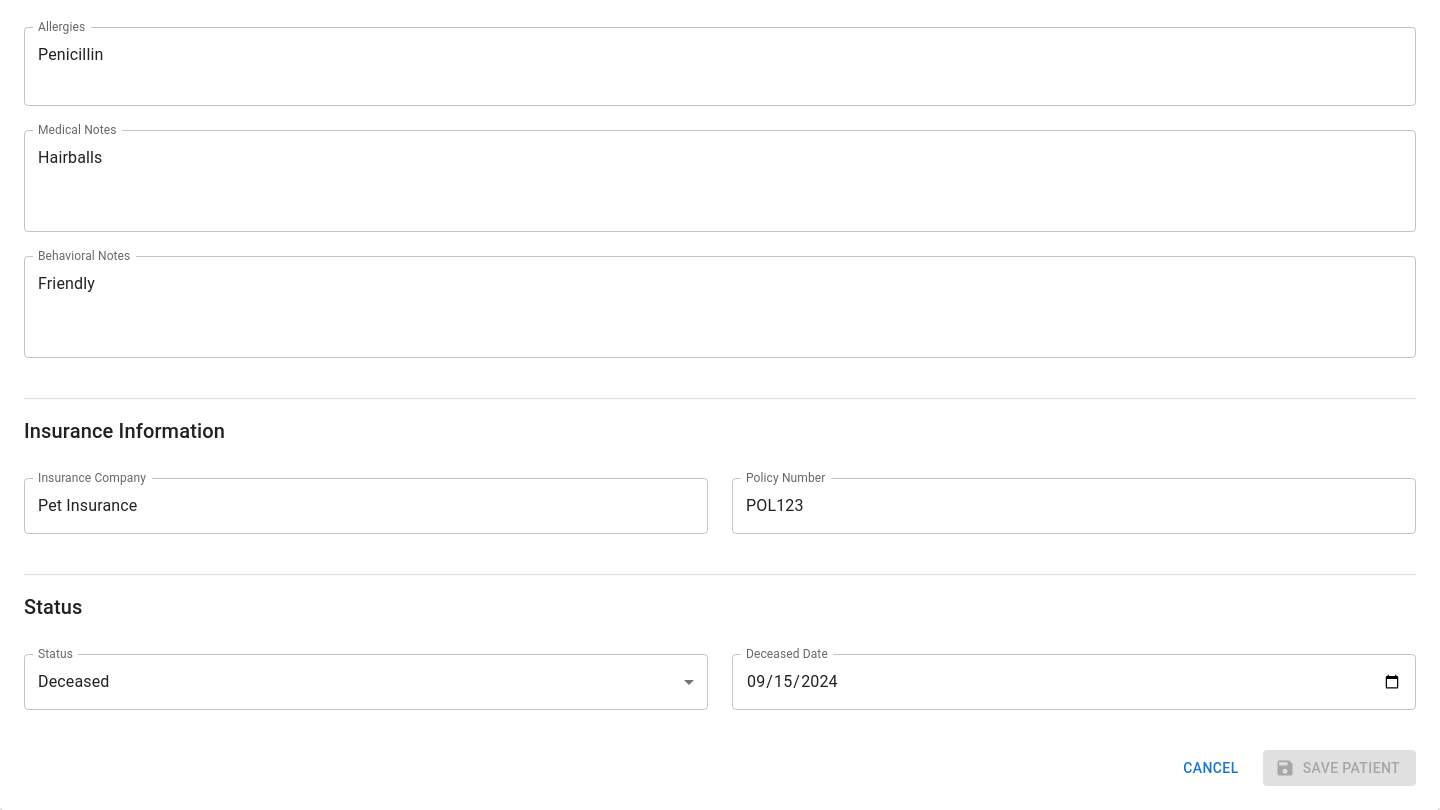
Test: PatientForm Component › Status Field › hides deceased_date field when status is not Deceased
(page scrolled)
expect the date field labelled "Deceased Date" is shown: met, box x1=732 y1=654 x2=1416 y2=710
Press the mouse on the dropdown named "Status": (74, 682) x1=38 y1=672 x2=110 y2=691
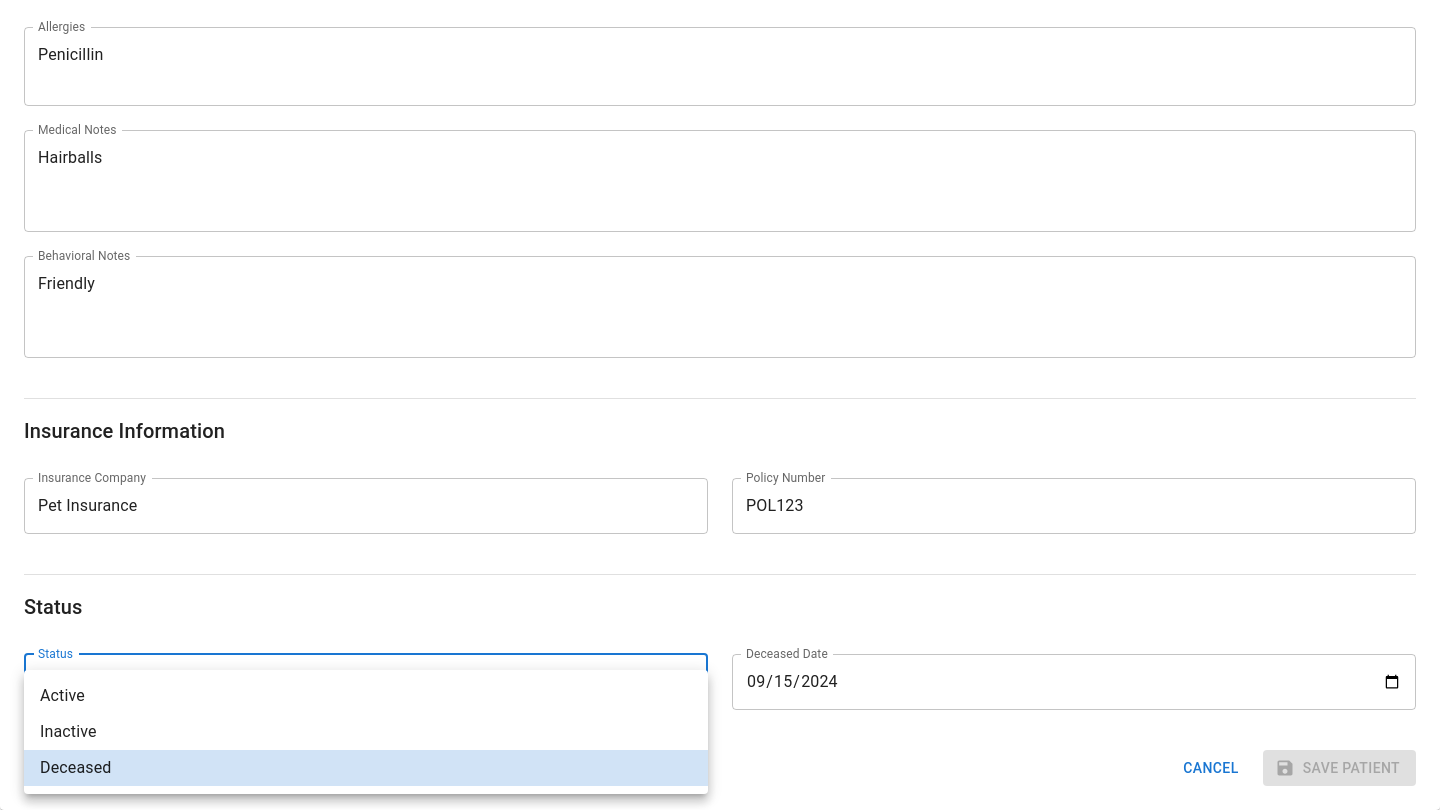
expect the option "Active" is shown: met
Click the option "Active": (62, 696) x1=40 y1=686 x2=85 y2=705
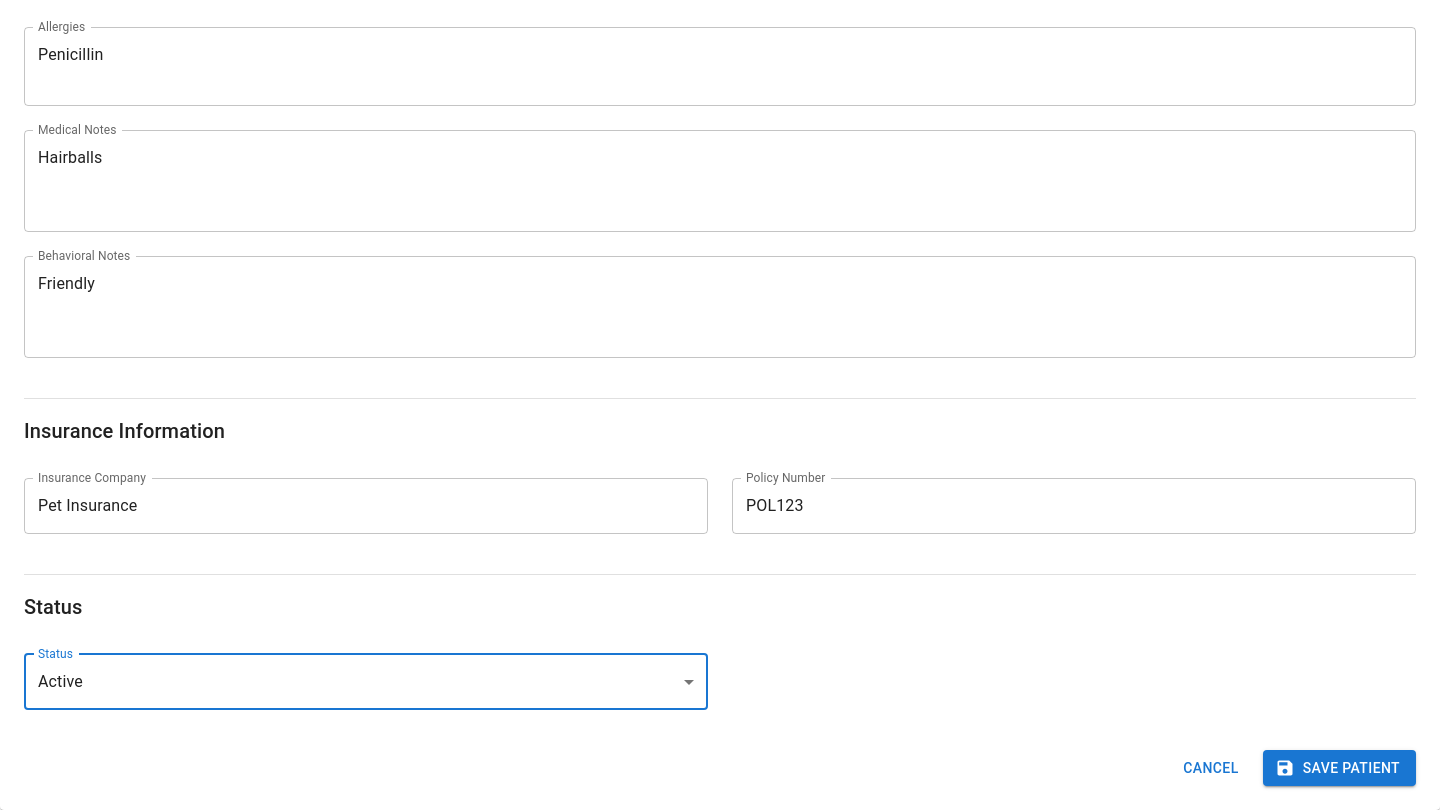
expect the label labelled "Deceased Date" is gone: met
